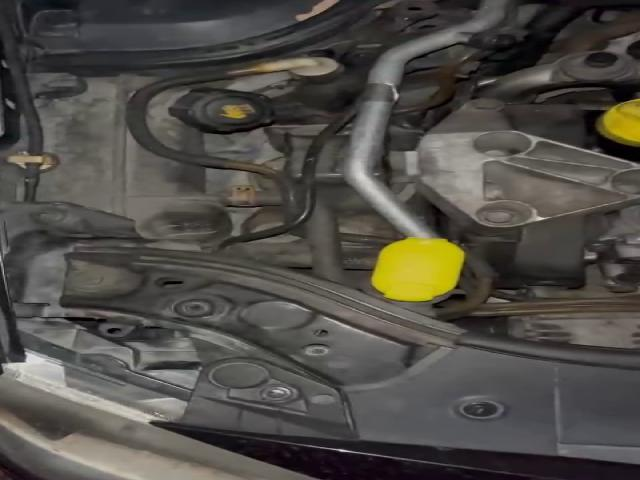antifreeze_tank: (35, 75, 236, 250), (144, 85, 272, 154)
